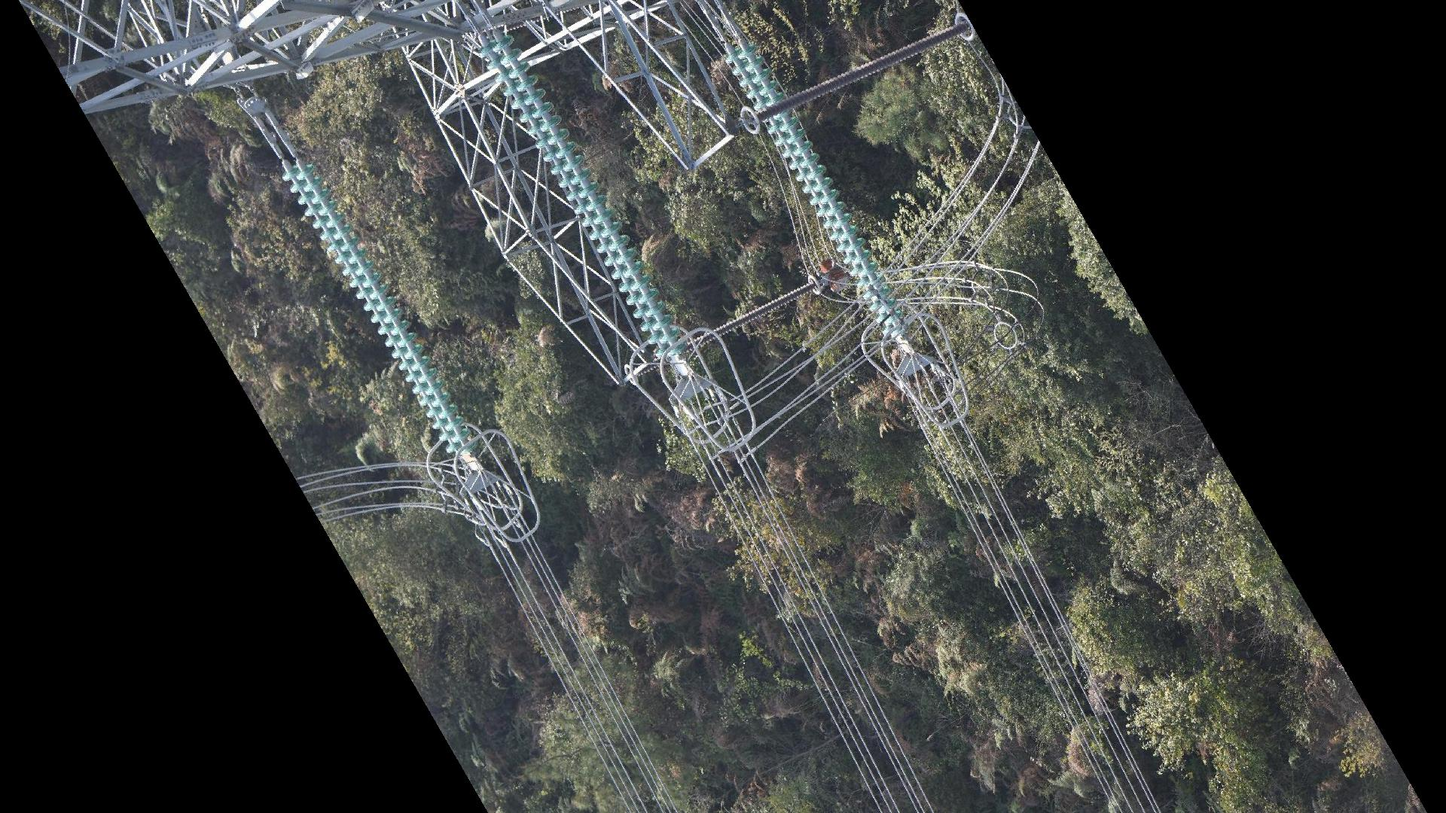insulator: (477, 35, 693, 366), (277, 159, 478, 460), (722, 43, 910, 342), (756, 20, 971, 128), (683, 275, 820, 355)
